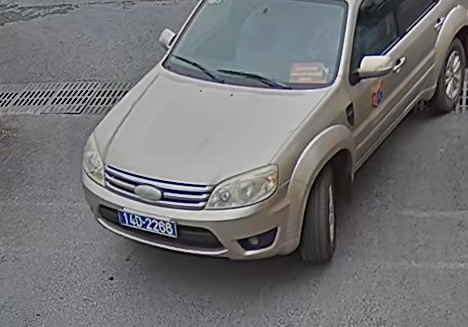vehicle plate: (115, 206, 176, 237)
